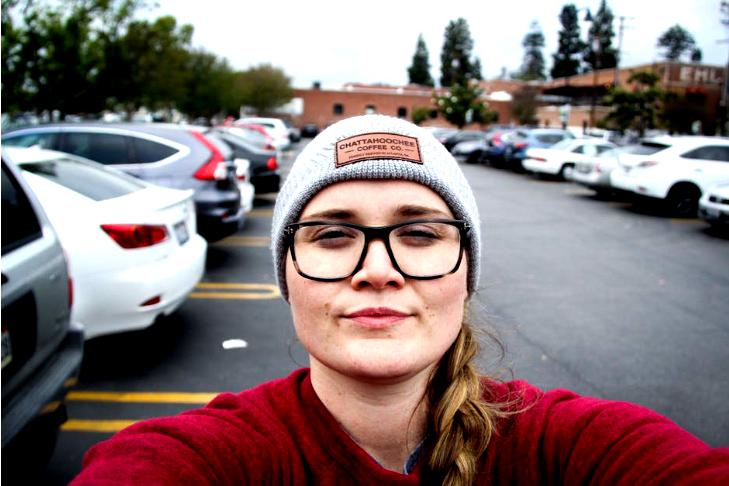face: (288, 181, 464, 375)
